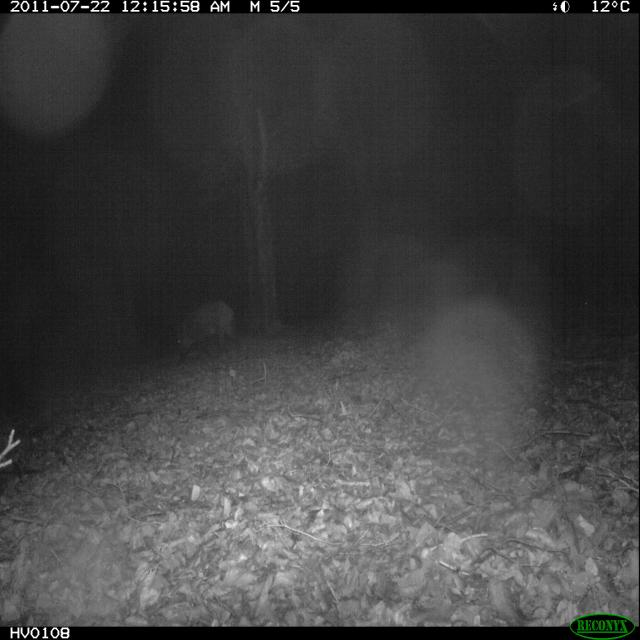boar: (164, 285, 240, 371)
